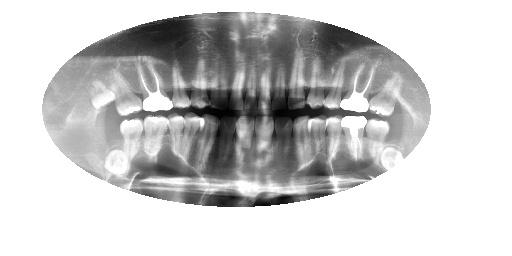i10decay: (214, 108, 239, 175)
i11decay: (195, 104, 221, 177)
i12healthy: (178, 105, 208, 174)
i13healthy: (164, 106, 190, 170)
i14healthy: (140, 110, 171, 165)
i15healthy: (115, 111, 146, 166)
i16healthy: (98, 146, 134, 182)
i1healthy: (378, 140, 407, 173)
i2healthy: (362, 114, 392, 168)
i3healthy: (338, 108, 371, 172)
i4healthy: (322, 108, 346, 184)
i5healthy: (305, 105, 329, 174)
i6healthy: (290, 107, 315, 183)
i7decay: (271, 108, 295, 180)
i8healthy: (252, 109, 276, 182)
i9healthy: (234, 108, 256, 186)
u10healthy: (225, 56, 246, 114)
u11decay: (210, 57, 230, 115)
u12healthy: (187, 48, 213, 113)
u13healthy: (164, 55, 194, 117)
u15healthy: (108, 64, 147, 120)
u16healthy: (84, 70, 120, 116)
u1loss: (391, 71, 423, 121)
u2healthy: (368, 65, 407, 119)
u3healthy: (338, 57, 379, 119)
u4decay: (320, 49, 348, 114)
u4healthy: (132, 48, 177, 117)
u5healthy: (302, 42, 329, 115)
u6healthy: (286, 41, 309, 116)
u7healthy: (270, 54, 292, 116)
u8healthy: (255, 63, 274, 119)
u9healthy: (243, 60, 260, 120)
